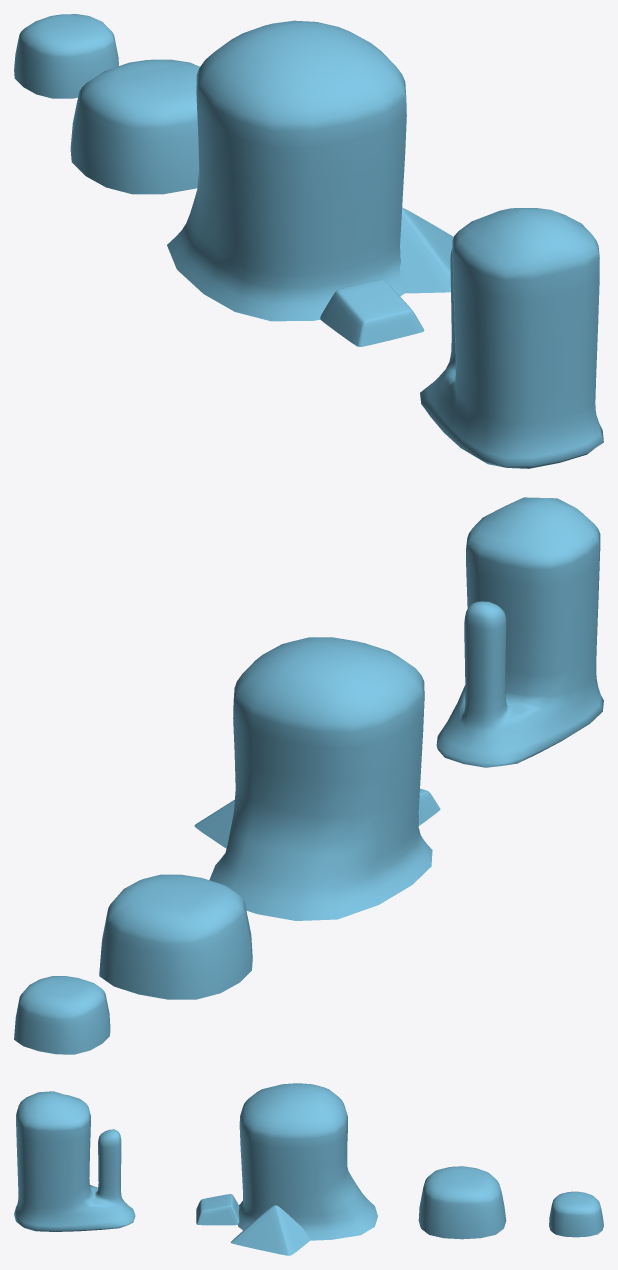
The model's file is Buttes FBX.fbx.
The picture shows the model from 3 angles, top to bottom: view 1: azimuth 30°, elevation 25°; view 2: azimuth 150°, elevation 25°; view 3: azimuth 270°, elevation 25°; orthographic projection. The views are drawn at different scales.
Parts seen in each view (by area): view 1: Butte1, Butte2, Butte3, Butte4; view 2: Butte1, Butte2, Butte3, Butte4; view 3: Butte1, Butte2, Butte3, Butte4.
Boxes of the visible parts, <box> form: Butte1: <box>167,20,453,346</box>; Butte2: <box>420,208,603,468</box>; Butte3: <box>70,59,199,194</box>; Butte4: <box>14,14,118,98</box>; Butte1: <box>194,637,440,920</box>; Butte2: <box>436,497,603,767</box>; Butte3: <box>99,874,252,999</box>; Butte4: <box>14,976,110,1054</box>; Butte1: <box>196,1083,377,1255</box>; Butte2: <box>14,1091,135,1231</box>; Butte3: <box>418,1166,506,1239</box>; Butte4: <box>549,1191,603,1237</box>.
Bounding box in the file's own units: 16.27 × 15.02 × 62.94.
